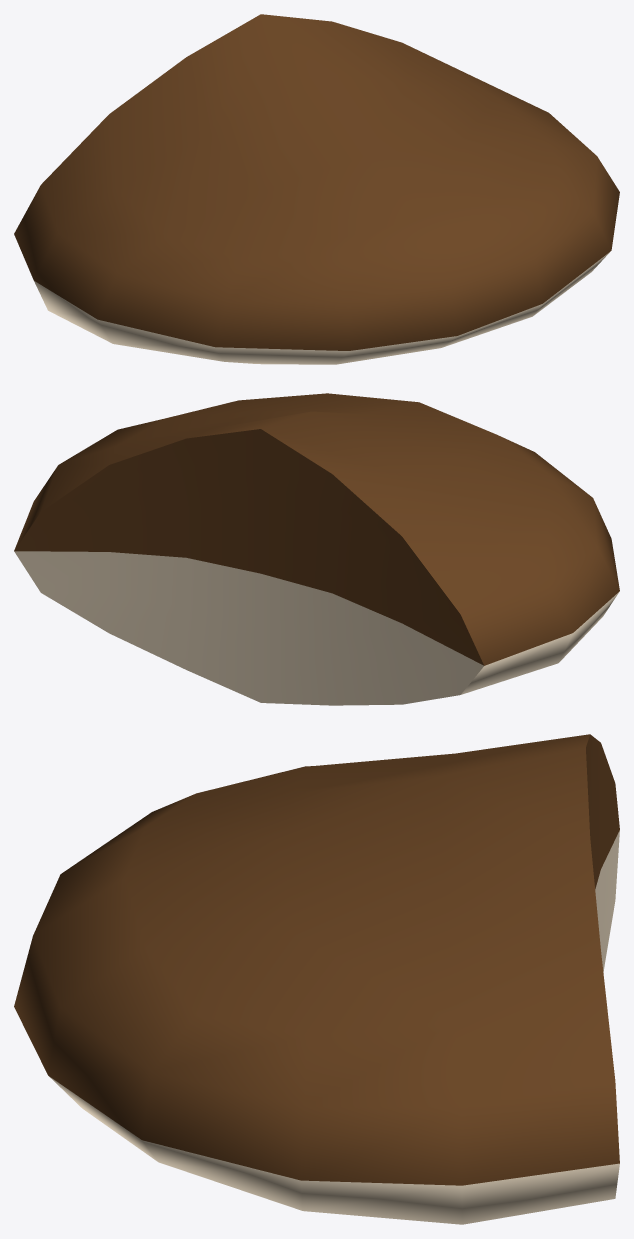
Rendered from Artists_Conk_Basic.fbx.
3 views of the same model, one above another, from view 1: azimuth 30°, elevation 25°; view 2: azimuth 150°, elevation 25°; view 3: azimuth 270°, elevation 25° (orthographic). The views are drawn at different scales.
Parts seen in each view (by area): view 1: Artists_Conk_Basic; view 2: Artists_Conk_Basic; view 3: Artists_Conk_Basic.
Boxes of the visible parts, box(x1,y1,x2,y2) form: Artists_Conk_Basic: box(14, 14, 619, 364); Artists_Conk_Basic: box(14, 393, 619, 705); Artists_Conk_Basic: box(14, 734, 619, 1224).
Bounding box in the file's own units: 55.64 × 27.01 × 37.22.
1 material, 1 textured.
